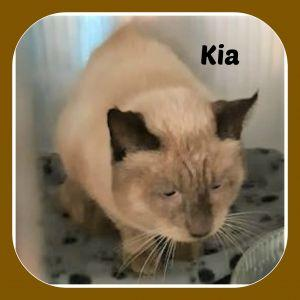siamese: (103, 77, 262, 247)
